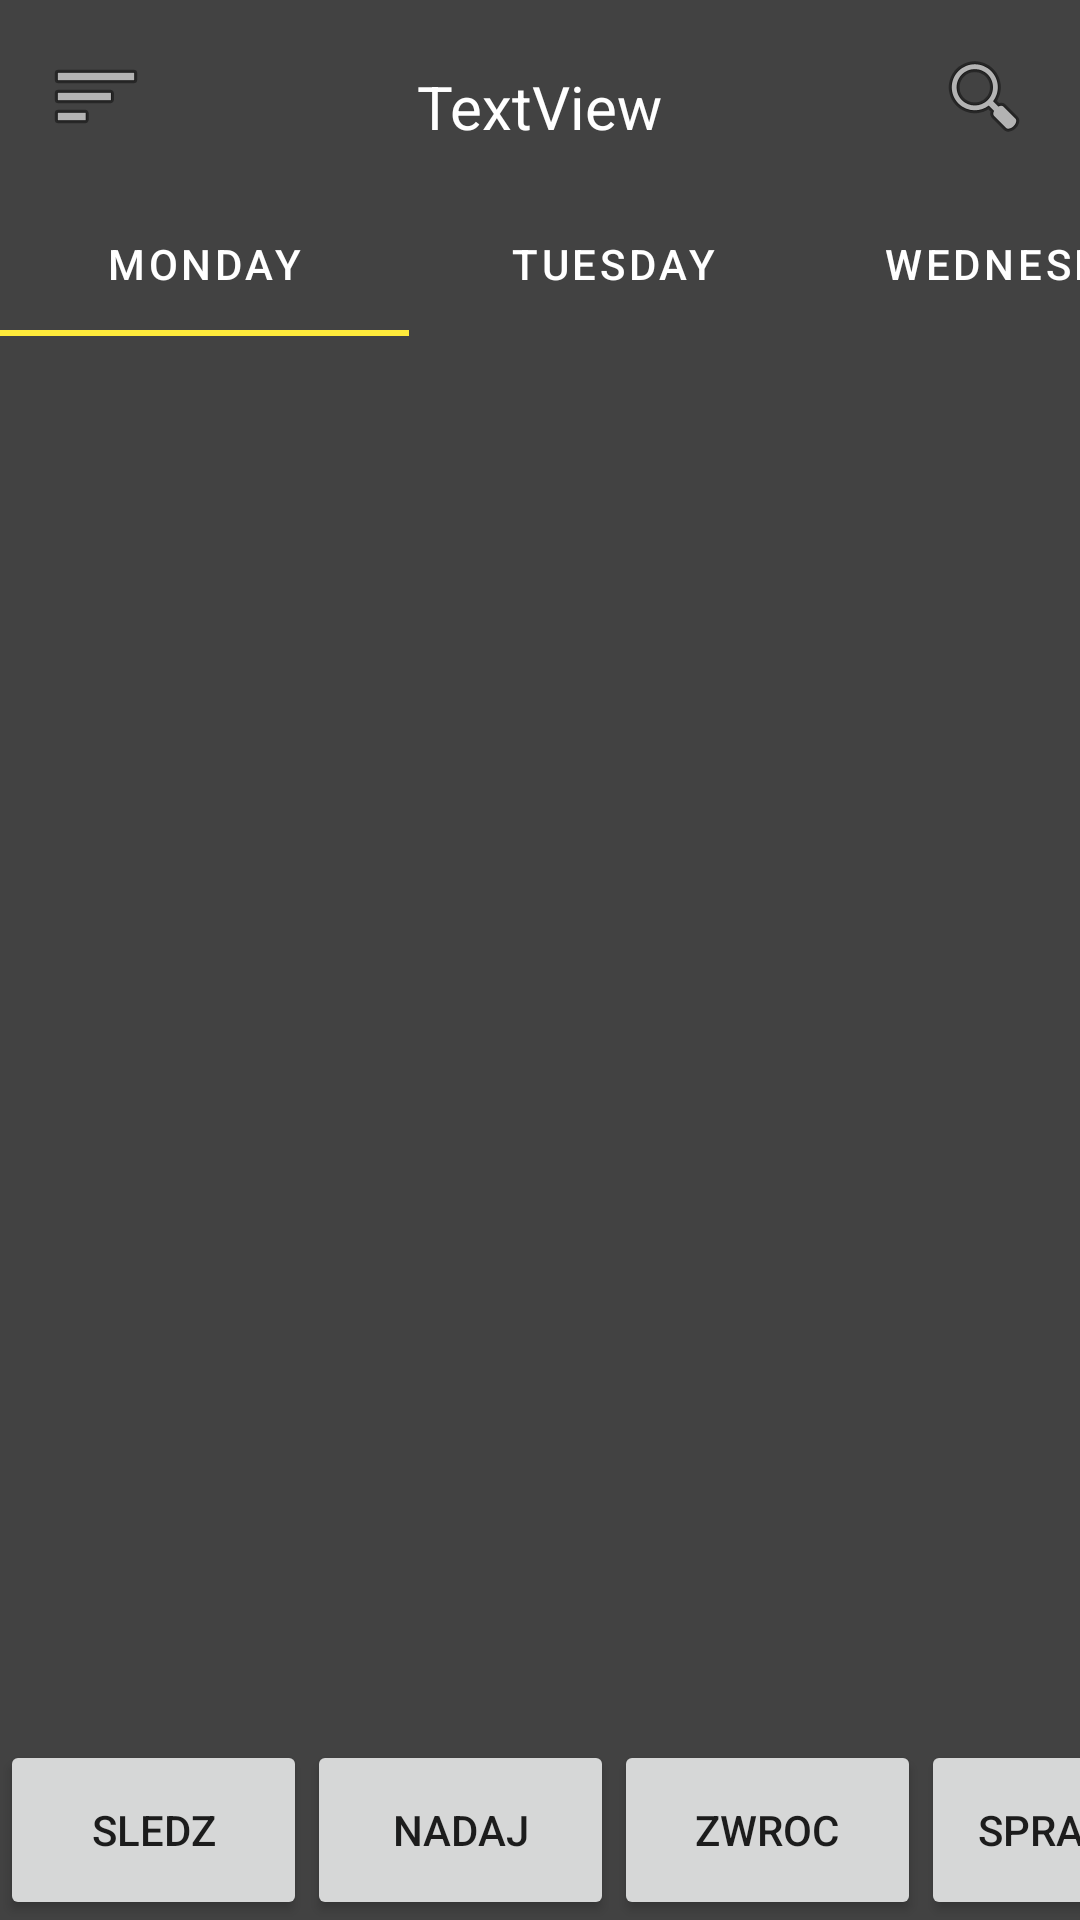

Icons on this 1080 x 1920 Android screen, each with the point to tap as (x,y):
search: (984,96)
sort by size: (96,96)
